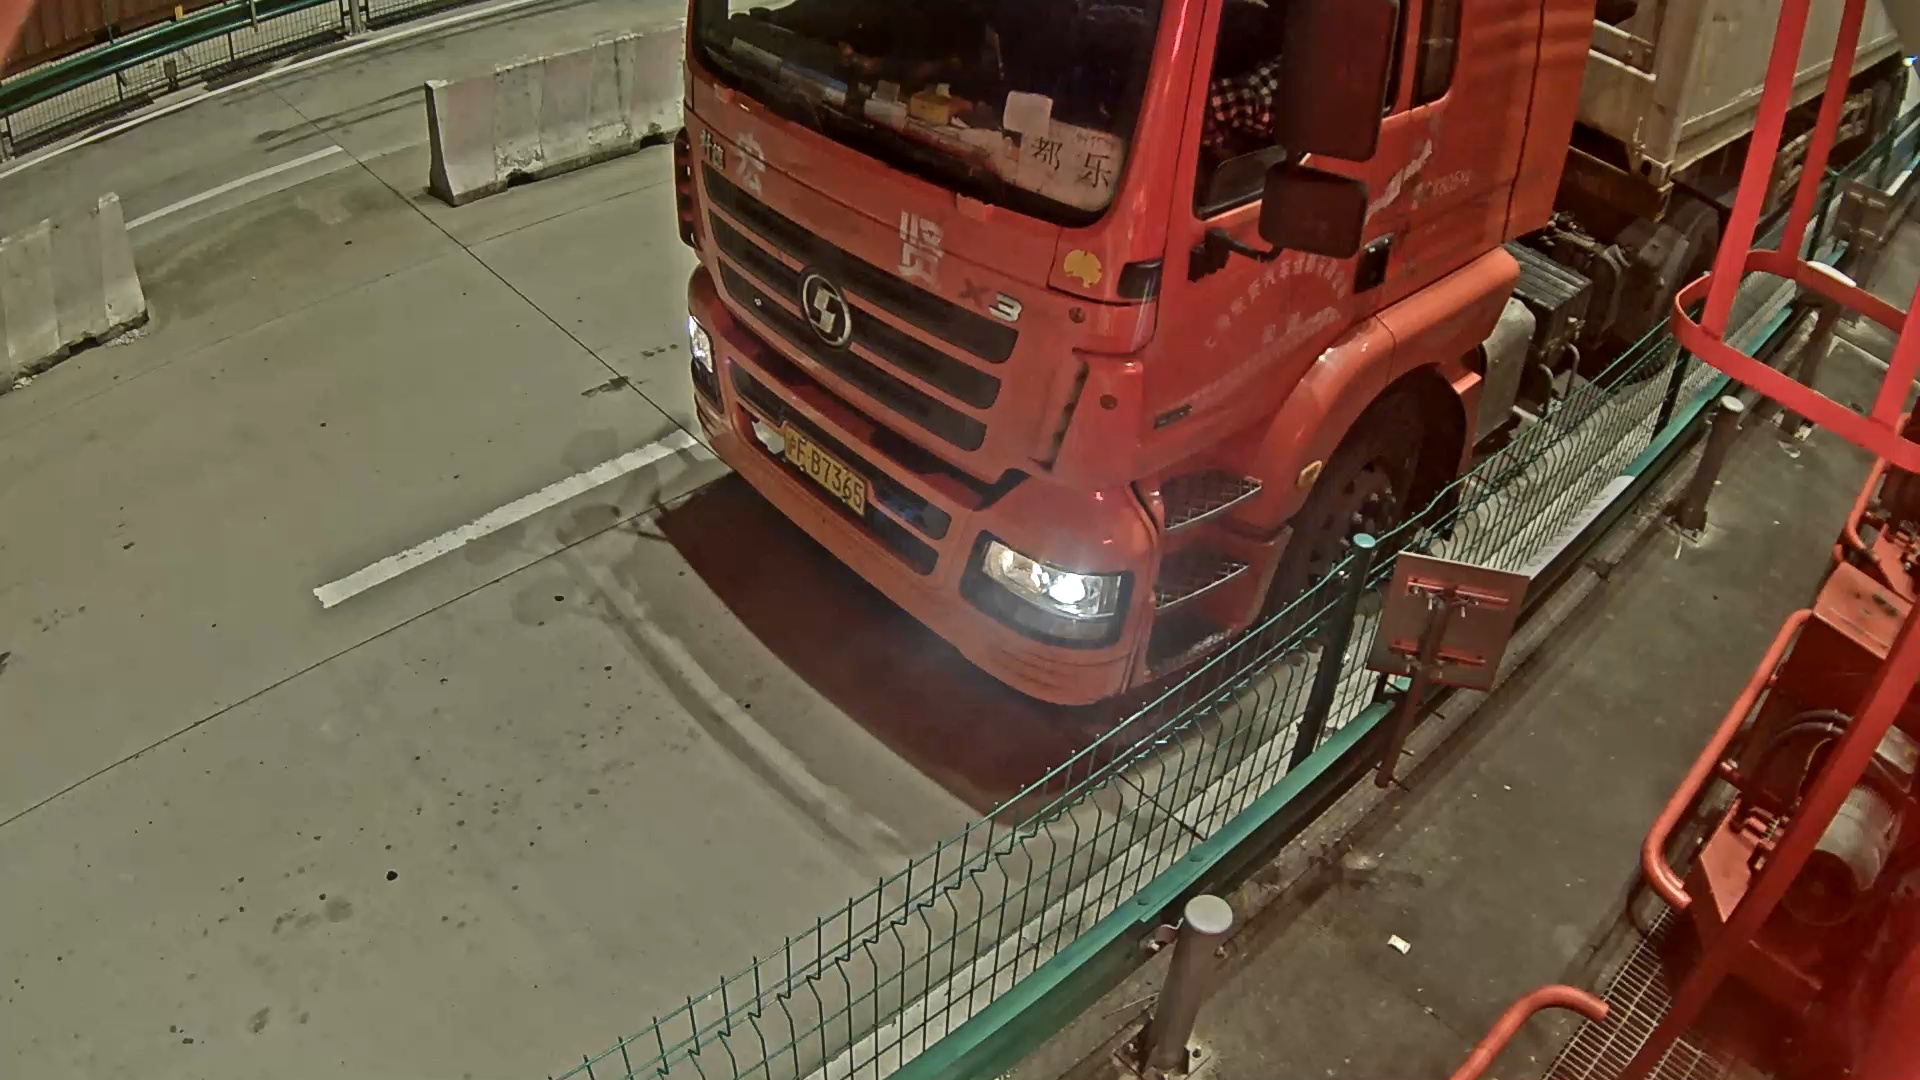head: (675, 1, 1600, 706)
plate: (777, 426, 864, 506)
